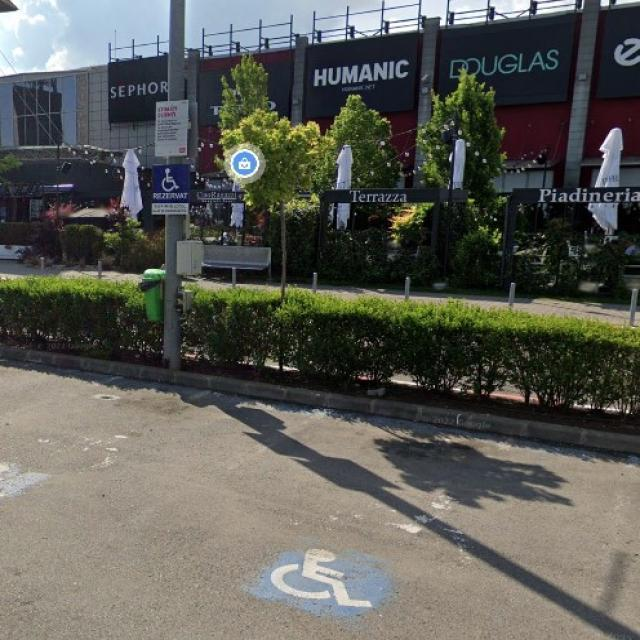symbol_of_access: (149, 161, 191, 204)
